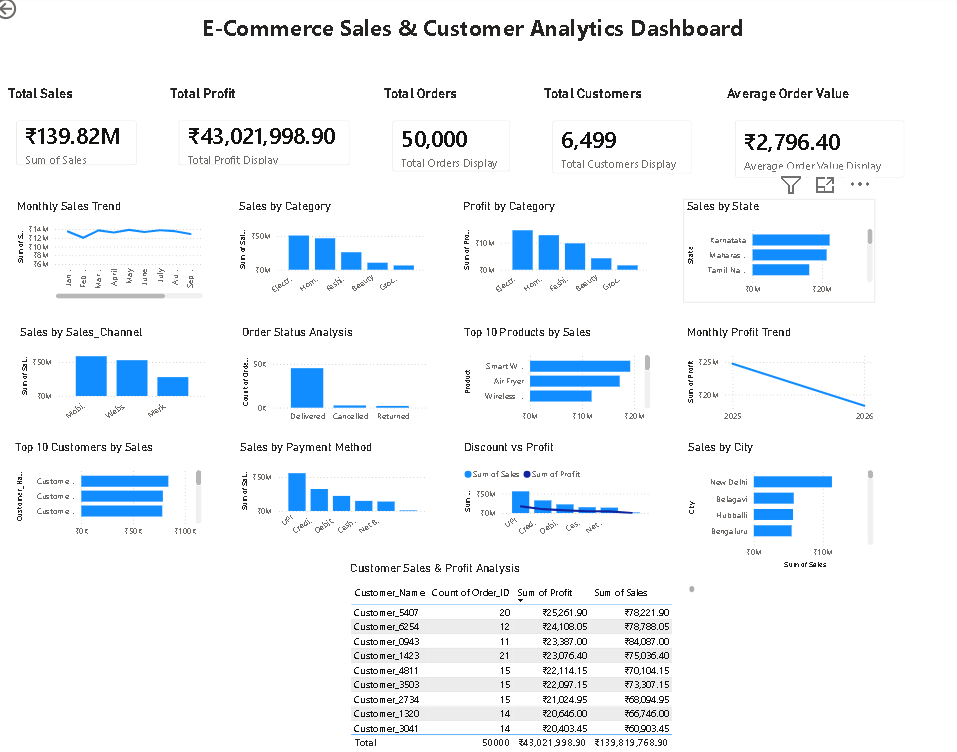

The dashboard page shown, as its layout file describes it:
{"tool":"powerbi","page":{"name":"Page 1","canvas":[1400,1100],"ordinal":0},"visuals":[{"type":"cardVisual","title":"Total Sales","fields":{"Data":["Sum(ecommerce_analytics sales_data.Sales)"]},"box":[18.1,131.9,209.5,132.6],"z":0},{"type":"cardVisual","title":"Total Profit","fields":{"Data":["ecommerce_analytics sales_data.Total Profit Display"]},"box":[254.8,131.9,282.2,132.6],"z":1000},{"type":"cardVisual","title":"Total Orders","fields":{"Data":["ecommerce_analytics sales_data.Total Orders Display"]},"box":[564.2,131.9,205.3,141.1],"z":2000},{"type":"actionButton","box":[0,0,100,40],"z":3000},{"type":"cardVisual","title":"Total Customers","fields":{"Data":["ecommerce_analytics sales_data.Total Customers Display"]},"box":[796.6,131.9,236.6,144],"z":4000},{"type":"cardVisual","title":"Average Order Value","fields":{"Data":["ecommerce_analytics sales_data.Average Order Value"]},"box":[1060.4,131.9,280,150],"z":5000},{"type":"lineChart","title":"Monthly Sales Trend","fields":{"Category":["ecommerce_analytics sales_data.Order_Date.Variation.Date Hierarchy.Year","ecommerce_analytics sales_data.Order_Date.Variation.Date Hierarchy.Month"],"Y":["Sum(ecommerce_analytics sales_data.Sales)"]},"box":[30,296.5,280,150],"z":6000},{"type":"clusteredColumnChart","title":"Profit by Category","fields":{"Category":["ecommerce_analytics sales_data.Category"],"Y":["Sum(ecommerce_analytics sales_data.Profit)"]},"box":[678.7,296.5,280,150],"z":7000},{"type":"clusteredColumnChart","title":"Sales by Category","fields":{"Category":["ecommerce_analytics sales_data.Category"],"Y":["Sum(ecommerce_analytics sales_data.Sales)"]},"box":[354.3,296.5,280,150],"z":8000},{"type":"clusteredBarChart","title":"Sales by State","fields":{"Category":["ecommerce_analytics sales_data.State"],"Y":["Sum(ecommerce_analytics sales_data.Sales)"]},"box":[1003,296.5,280,150],"z":9000},{"type":"clusteredColumnChart","title":"Sales by Sales_Channel","fields":{"Category":["ecommerce_analytics sales_data.Sales_Channel"],"Y":["Sum(ecommerce_analytics sales_data.Sales)"]},"box":[35.6,479.2,280,150],"z":10000},{"type":"clusteredColumnChart","title":"Order Status Analysis","fields":{"Category":["ecommerce_analytics sales_data.Order_Status"],"Y":["CountNonNull(ecommerce_analytics sales_data.Order_ID)"]},"box":[358,479.2,280,150],"z":11000},{"type":"clusteredBarChart","title":"Top 10 Products by Sales","fields":{"Category":["ecommerce_analytics sales_data.Product"],"Y":["Sum(ecommerce_analytics sales_data.Sales)"]},"box":[680.3,479.2,280,150],"z":12000},{"type":"lineChart","title":"Monthly Profit Trend","fields":{"Category":["ecommerce_analytics sales_data.Order_Date.Variation.Date Hierarchy.Year","ecommerce_analytics sales_data.Order_Date.Variation.Date Hierarchy.Month"],"Y":["Sum(ecommerce_analytics sales_data.Profit)"]},"box":[1002.7,479.2,280,150],"z":13000},{"type":"clusteredBarChart","title":"Top 10 Customers by Sales","fields":{"Category":["ecommerce_analytics sales_data.Customer_Name"],"Y":["Sum(ecommerce_analytics sales_data.Sales)"]},"box":[29.7,646.4,280,150],"z":14000},{"type":"clusteredColumnChart","title":"Sales by Payment Method","fields":{"Category":["ecommerce_analytics sales_data.Payment_Mode"],"Y":["Sum(ecommerce_analytics sales_data.Sales)"]},"box":[354.9,646.4,280,150],"z":15000},{"type":"lineClusteredColumnComboChart","title":"Discount vs Profit","fields":{"Category":["ecommerce_analytics sales_data.Payment_Mode"],"Y":["Sum(ecommerce_analytics sales_data.Sales)"],"Y2":["Sum(ecommerce_analytics sales_data.Profit)"]},"box":[680.1,646.4,279,150],"z":16000},{"type":"tableEx","title":"Customer Sales & Profit Analysis","fields":{"Values":["ecommerce_analytics sales_data.Customer_Name","ecommerce_analytics sales_data.Order_ID","Sum(ecommerce_analytics sales_data.Profit)","Sum(ecommerce_analytics sales_data.Sales)"]},"box":[515.2,821.7,509.7,277.5],"z":17000},{"type":"clusteredBarChart","title":"Sales by City","fields":{"Category":["ecommerce_analytics sales_data.City"],"Y":["Sum(ecommerce_analytics sales_data.Sales)"]},"box":[1004.3,646.4,279,191],"z":18000},{"type":"textbox","box":[49.5,19.8,1297.8,74.2],"z":19000}]}

Visuals, with their boxes in screenshot pixels (x1, y1, x2, y2), scaled from the page's 1400x1100 canvas onto the 957x752 screenshot:
"Total Sales" cardVisual: bbox=[12, 90, 156, 181]
"Total Profit" cardVisual: bbox=[174, 90, 367, 181]
"Total Orders" cardVisual: bbox=[386, 90, 526, 187]
actionButton: bbox=[0, 0, 68, 27]
"Total Customers" cardVisual: bbox=[545, 90, 706, 189]
"Average Order Value" cardVisual: bbox=[725, 90, 916, 193]
"Monthly Sales Trend" lineChart: bbox=[21, 203, 212, 305]
"Profit by Category" clusteredColumnChart: bbox=[464, 203, 655, 305]
"Sales by Category" clusteredColumnChart: bbox=[242, 203, 434, 305]
"Sales by State" clusteredBarChart: bbox=[686, 203, 877, 305]
"Sales by Sales_Channel" clusteredColumnChart: bbox=[24, 328, 216, 430]
"Order Status Analysis" clusteredColumnChart: bbox=[245, 328, 436, 430]
"Top 10 Products by Sales" clusteredBarChart: bbox=[465, 328, 656, 430]
"Monthly Profit Trend" lineChart: bbox=[685, 328, 877, 430]
"Top 10 Customers by Sales" clusteredBarChart: bbox=[20, 442, 212, 544]
"Sales by Payment Method" clusteredColumnChart: bbox=[243, 442, 434, 544]
"Discount vs Profit" lineClusteredColumnComboChart: bbox=[465, 442, 656, 544]
"Customer Sales & Profit Analysis" tableEx: bbox=[352, 562, 701, 751]
"Sales by City" clusteredBarChart: bbox=[687, 442, 877, 572]
textbox: bbox=[34, 14, 921, 64]
